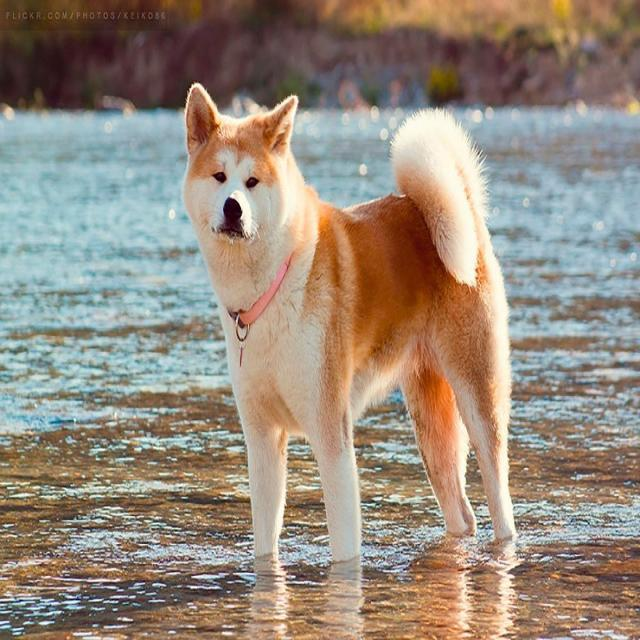Dogs: (182, 83, 520, 613)
